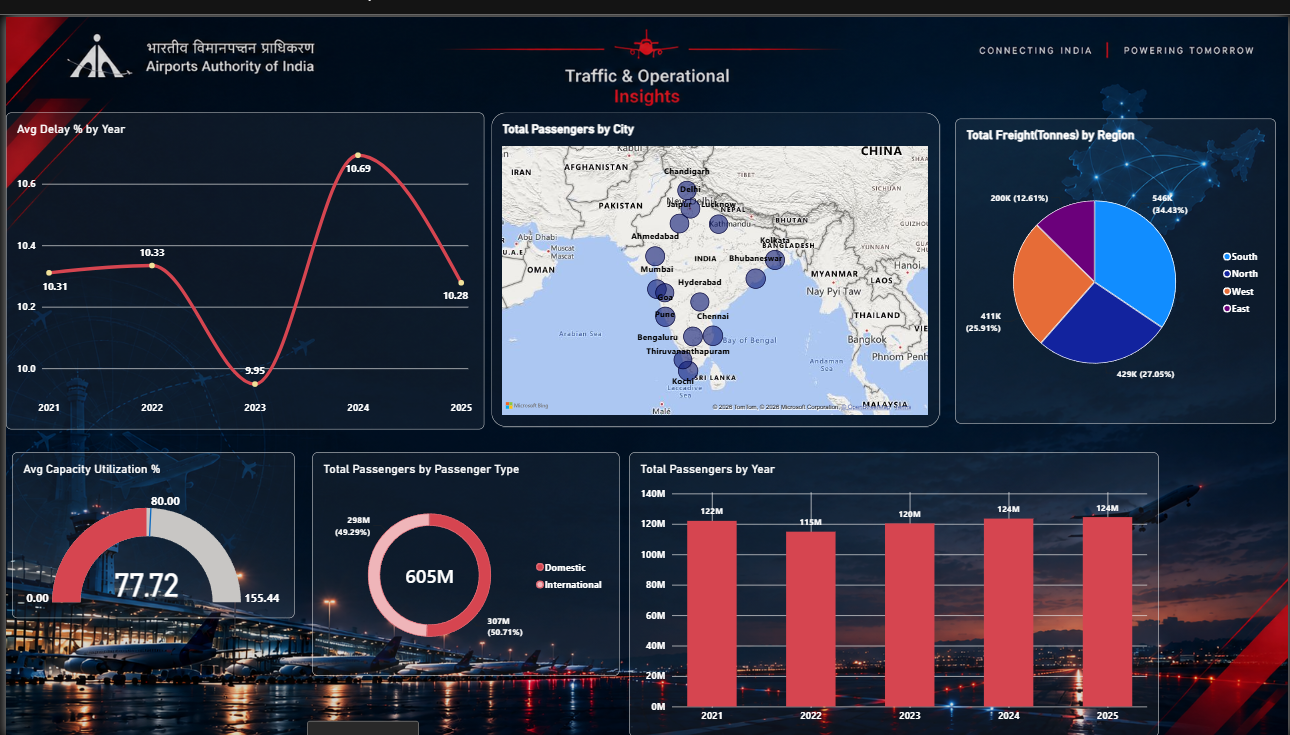

Layout of this report page (visuals, bound fields, positions):
{"tool":"powerbi","page":{"name":"Operations ","canvas":[1920,1080],"ordinal":2},"visuals":[{"type":"lineChart","fields":{"Category":["Date_Dim.Date.Variation.Date Hierarchy.Year","Date_Dim.Date.Variation.Date Hierarchy.Quarter","Date_Dim.Date.Variation.Date Hierarchy.Month","Date_Dim.Date.Variation.Date Hierarchy.Day"],"Y":["Airport_Traffic_Fact.Avg Delay %"]},"box":[0,143.3,716.7,475],"z":0},{"type":"gauge","fields":{"Y":["Airport_Traffic_Fact.Avg Capacity Utilization %"]},"box":[10,653.3,423.3,248.3],"z":1},{"type":"donutChart","fields":{"Category":["Airport_Traffic_Fact.Passenger Type"],"Y":["Airport_Traffic_Fact.Total Passengers"]},"box":[460,653.3,460,335],"z":2},{"type":"map","fields":{"Category":["Airport_Dim.City"],"Size":["Airport_Traffic_Fact.Total Passengers"]},"box":[728.3,143.3,671.6,470.8],"z":3},{"type":"clusteredColumnChart","fields":{"Category":["Date_Dim.Date.Variation.Date Hierarchy.Year","Date_Dim.Date.Variation.Date Hierarchy.Quarter","Date_Dim.Date.Variation.Date Hierarchy.Month","Date_Dim.Date.Variation.Date Hierarchy.Day"],"Y":["Airport_Traffic_Fact.Total Passengers"]},"box":[935,653.3,793.3,426.7],"z":4},{"type":"pieChart","fields":{"Category":["Airport_Dim.Region"],"Y":["Airport_Traffic_Fact.Total Freight(Tonnes)"]},"box":[1421.7,151.7,480,456.7],"z":5}]}

Visuals, with their boxes in screenshot pixels (x1, y1, x2, y2), scaled from the page's 1920x1080 canvas onto the 1290x735 screenshot:
lineChart - Date_Dim.Date.Variation.Date Hierarchy.Year x Date_Dim.Date.Variation.Date Hierarchy.Quarter: x1=0 y1=98 x2=482 y2=421
gauge - Airport_Traffic_Fact.Avg Capacity Utilization %: x1=7 y1=445 x2=291 y2=614
donutChart - Airport_Traffic_Fact.Passenger Type x Airport_Traffic_Fact.Total Passengers: x1=309 y1=445 x2=618 y2=673
map - Airport_Dim.City x Airport_Traffic_Fact.Total Passengers: x1=489 y1=98 x2=941 y2=418
clusteredColumnChart - Date_Dim.Date.Variation.Date Hierarchy.Year x Date_Dim.Date.Variation.Date Hierarchy.Quarter: x1=628 y1=445 x2=1161 y2=734
pieChart - Airport_Dim.Region x Airport_Traffic_Fact.Total Freight(Tonnes): x1=955 y1=103 x2=1278 y2=414
